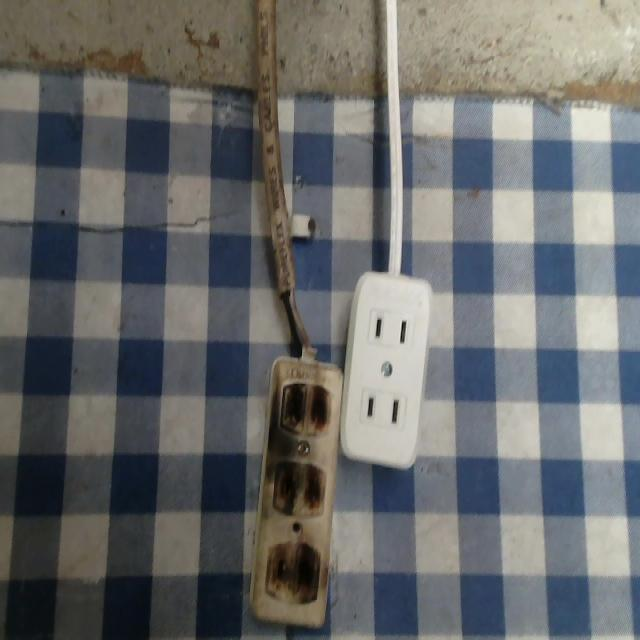-: (261, 538, 322, 606), (276, 377, 336, 436), (271, 456, 328, 517)
